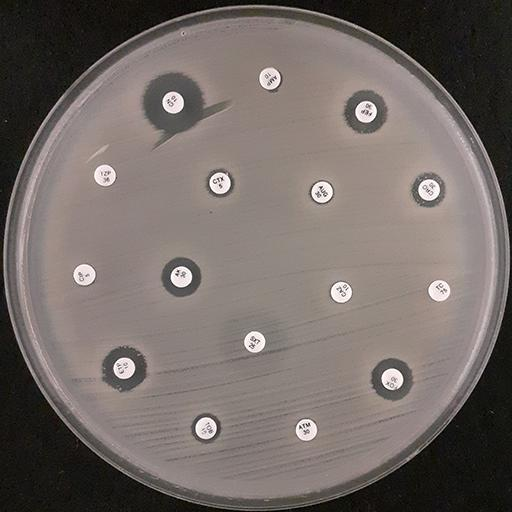disc: (309, 180, 334, 205), (258, 66, 282, 91), (354, 98, 378, 123), (72, 262, 96, 287), (207, 171, 231, 195), (417, 178, 441, 202), (329, 280, 353, 304), (242, 330, 266, 354), (112, 356, 136, 380), (294, 418, 318, 442), (380, 367, 404, 391), (161, 89, 184, 114), (93, 163, 116, 187), (427, 279, 451, 302), (169, 265, 193, 288), (194, 417, 217, 441)
